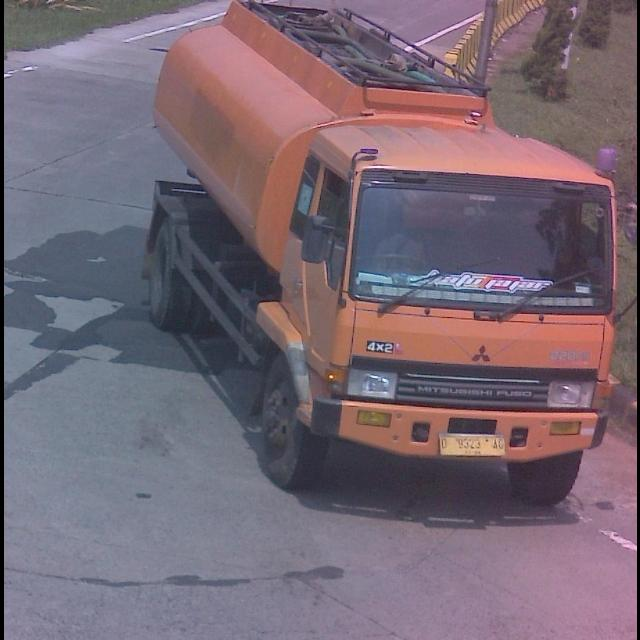plate: (436, 429, 508, 457)
